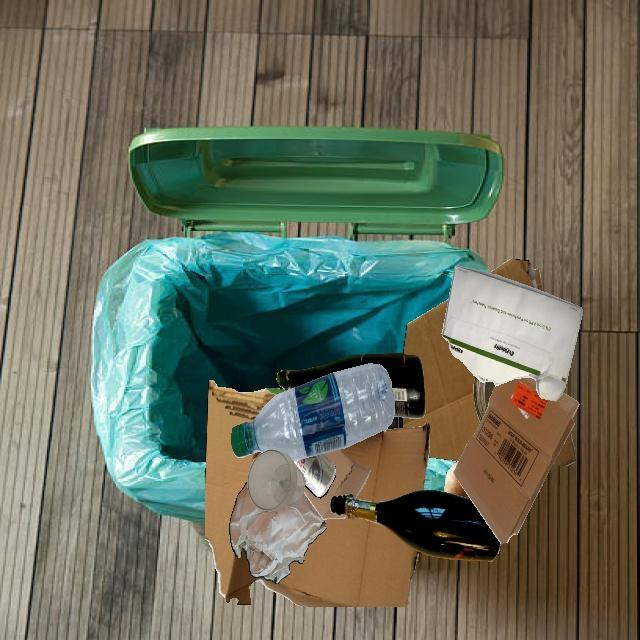biowaste: (444, 461, 470, 499)
cardboard: (205, 380, 419, 607), (453, 377, 579, 544), (474, 286, 570, 431), (403, 299, 480, 461), (342, 423, 430, 502), (304, 448, 371, 519), (489, 259, 538, 286), (552, 431, 576, 466)
glass: (329, 490, 500, 561), (276, 353, 425, 419), (247, 449, 305, 512), (473, 377, 495, 423), (386, 416, 399, 429)
metal: (292, 453, 336, 498)
paper: (442, 265, 582, 401), (229, 482, 327, 584)
plastic: (231, 363, 394, 460)
